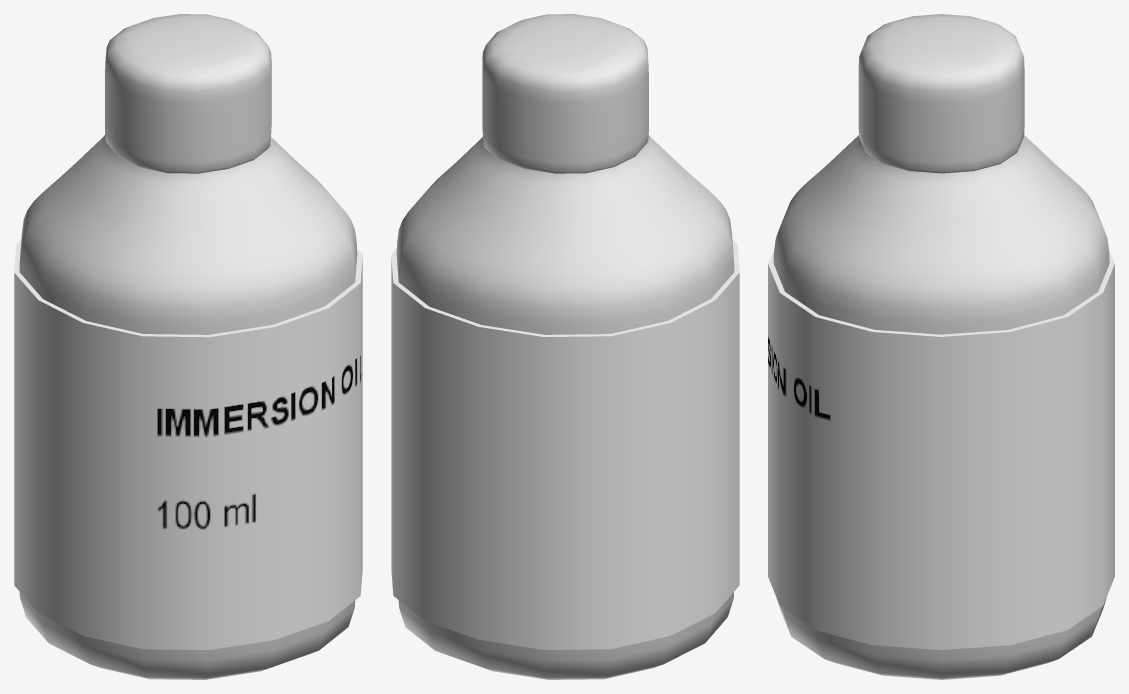
Rendered from Immersion oil.fbx.
3 views of the same model, side by side, from view 1: azimuth 30°, elevation 25°; view 2: azimuth 150°, elevation 25°; view 3: azimuth 270°, elevation 25° (orthographic).
Visible parts, largest first — view 1: Cube.021, Cube.020, Cube.074; view 2: Cube.021, Cube.020, Cube.074; view 3: Cube.021, Cube.020, Cube.074.
Boxes of the visible parts, x1=… form: Cube.021: x1=14, y1=240, x2=362, y2=649; Cube.020: x1=19, y1=135, x2=357, y2=679; Cube.074: x1=105, y1=14, x2=271, y2=173; Cube.021: x1=391, y1=240, x2=739, y2=649; Cube.020: x1=396, y1=135, x2=734, y2=679; Cube.074: x1=482, y1=14, x2=648, y2=173; Cube.021: x1=768, y1=249, x2=1114, y2=649; Cube.020: x1=773, y1=135, x2=1109, y2=679; Cube.074: x1=858, y1=14, x2=1024, y2=173.
Size of the model in its own units: 4.84 by 9.02 by 4.84.
3 materials, 1 textured.
